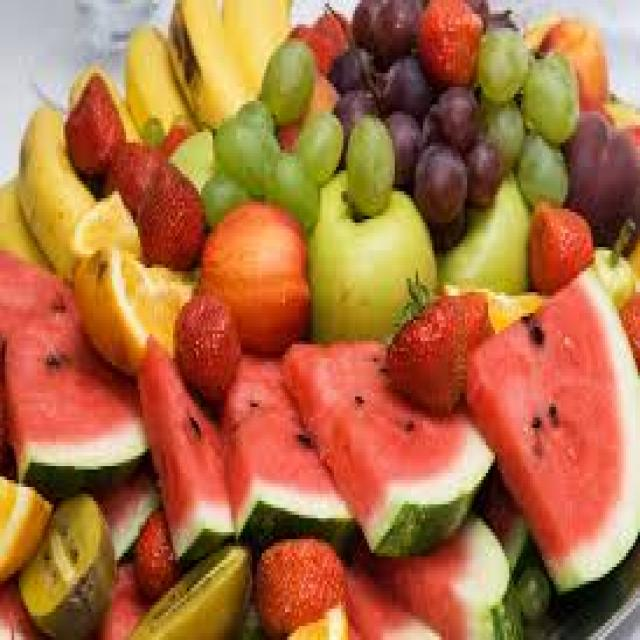organic waste: (462, 264, 638, 588), (280, 338, 512, 556), (0, 247, 149, 480), (220, 362, 362, 556), (297, 167, 432, 334), (142, 338, 232, 564), (66, 247, 210, 365), (196, 198, 306, 348), (378, 286, 488, 418), (121, 532, 252, 637), (357, 546, 507, 637), (21, 490, 112, 633), (18, 101, 96, 264), (434, 181, 528, 313), (124, 17, 198, 153), (171, 0, 245, 136), (563, 104, 638, 230), (257, 546, 343, 633), (346, 567, 444, 636), (133, 160, 199, 261), (61, 66, 119, 177), (173, 299, 238, 393), (544, 14, 608, 108), (413, 0, 483, 83), (0, 181, 61, 275), (0, 473, 54, 577), (98, 136, 166, 212), (222, 0, 290, 73), (521, 49, 577, 132), (528, 202, 584, 285), (269, 150, 320, 240), (346, 115, 390, 219), (215, 122, 276, 195), (262, 38, 315, 122), (96, 553, 149, 637), (476, 480, 528, 563), (376, 101, 423, 181), (364, 3, 425, 62), (411, 146, 465, 212), (474, 24, 521, 98), (521, 129, 565, 205), (287, 111, 341, 170), (481, 101, 521, 174), (428, 87, 477, 143), (591, 240, 633, 303), (383, 63, 430, 118), (290, 24, 341, 73), (336, 87, 376, 146), (329, 45, 376, 94), (0, 581, 40, 636), (350, 0, 388, 49), (467, 139, 498, 198), (521, 567, 549, 619), (612, 296, 638, 351), (199, 174, 231, 216), (318, 7, 348, 49), (234, 97, 268, 129)
